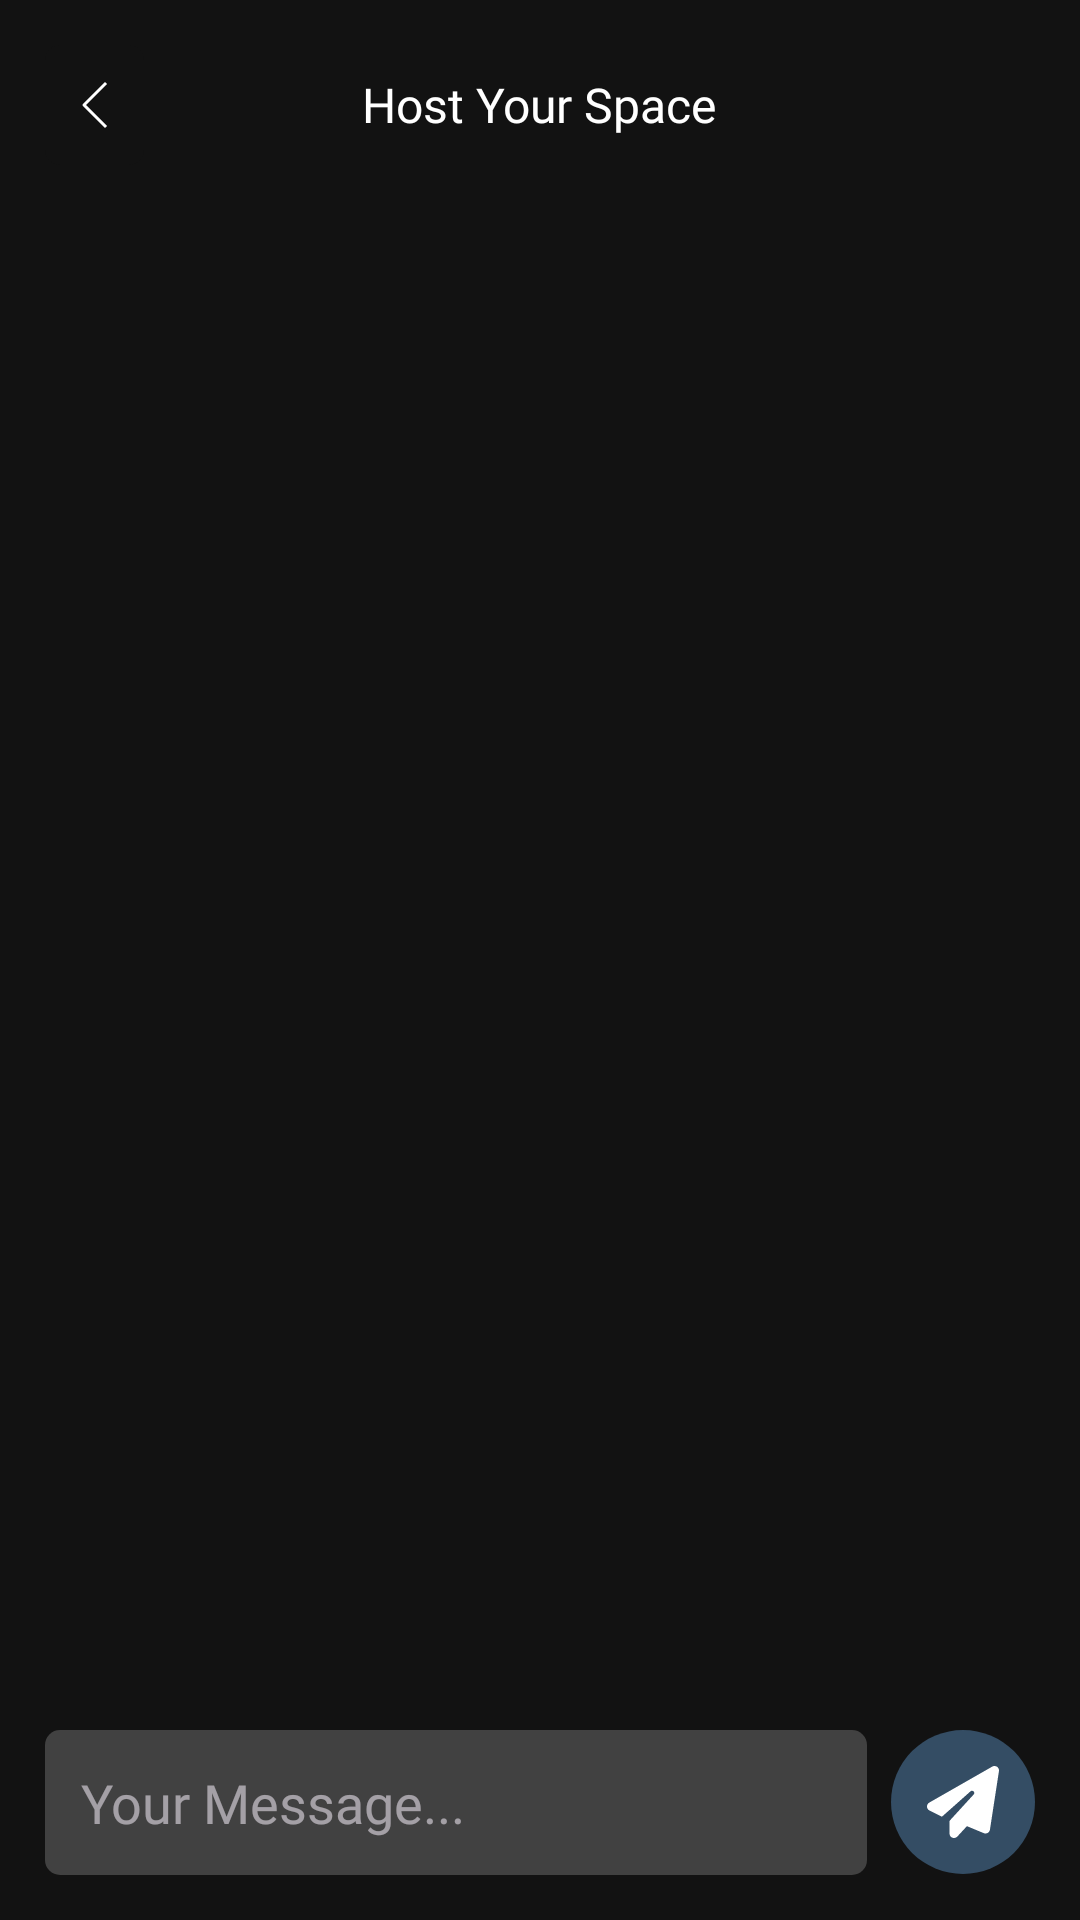

Icon click points for this 1080*1920 phone screenshot, format [x,y]:
back: [94,105]
send: [963,1802]
